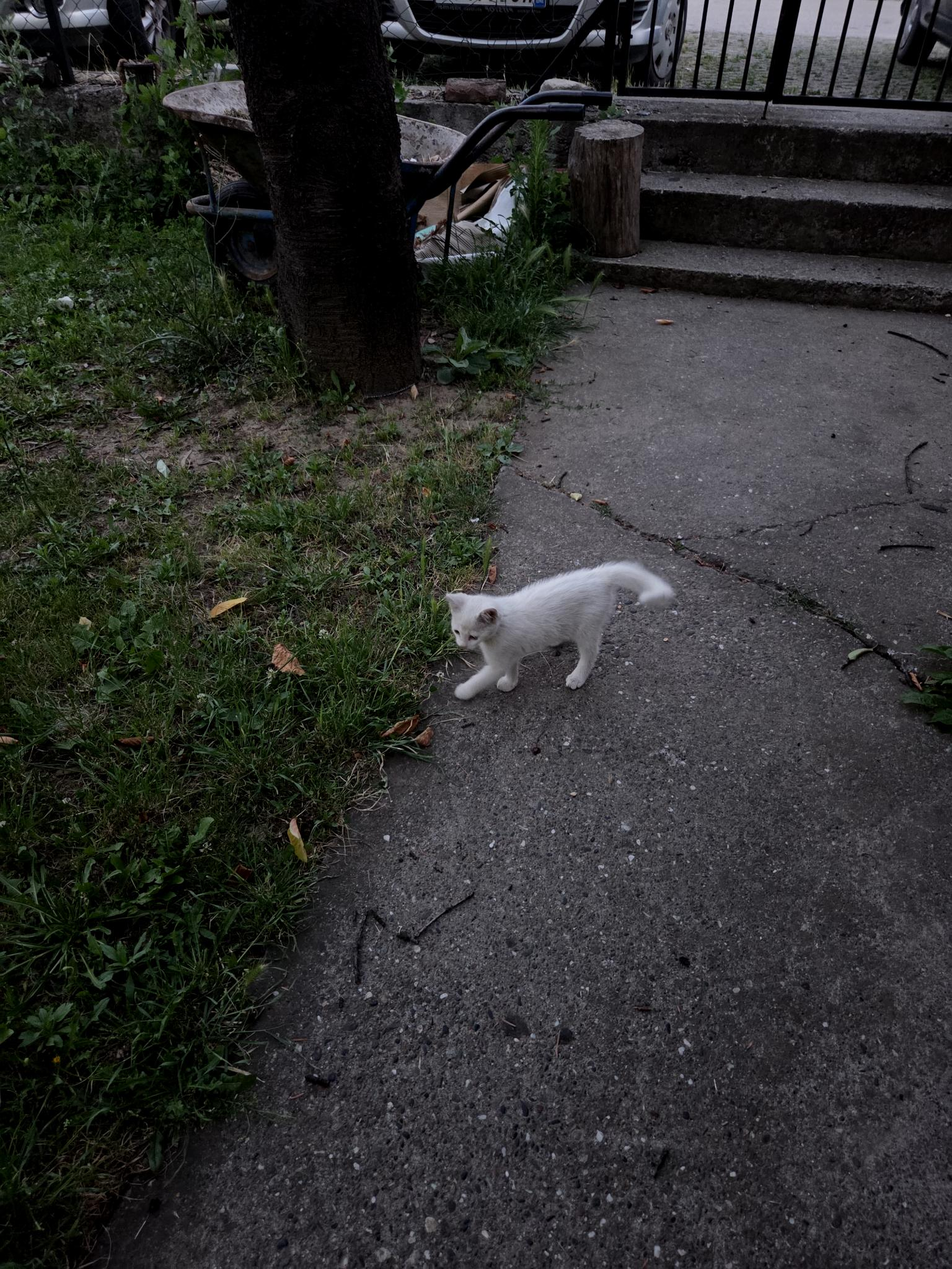macka: (441, 560, 677, 701)
